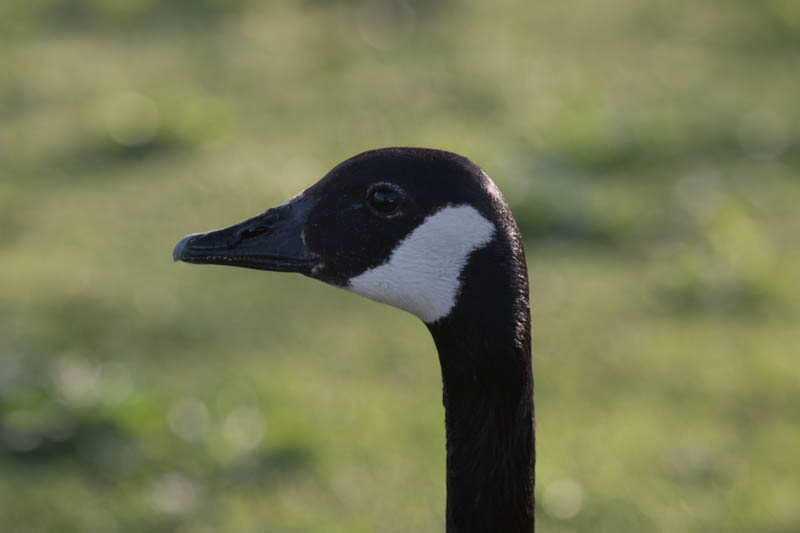goose-head: (172, 148, 530, 325)
